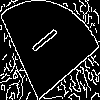I: (25, 25, 59, 60)
